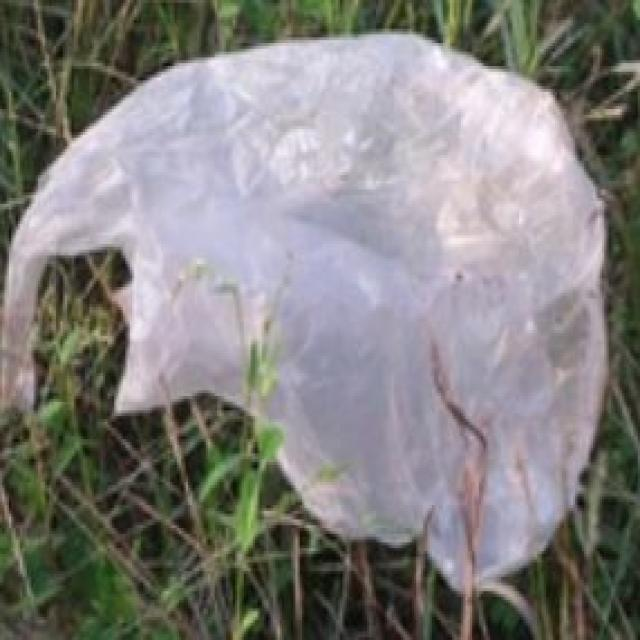general: (0, 26, 609, 594)
